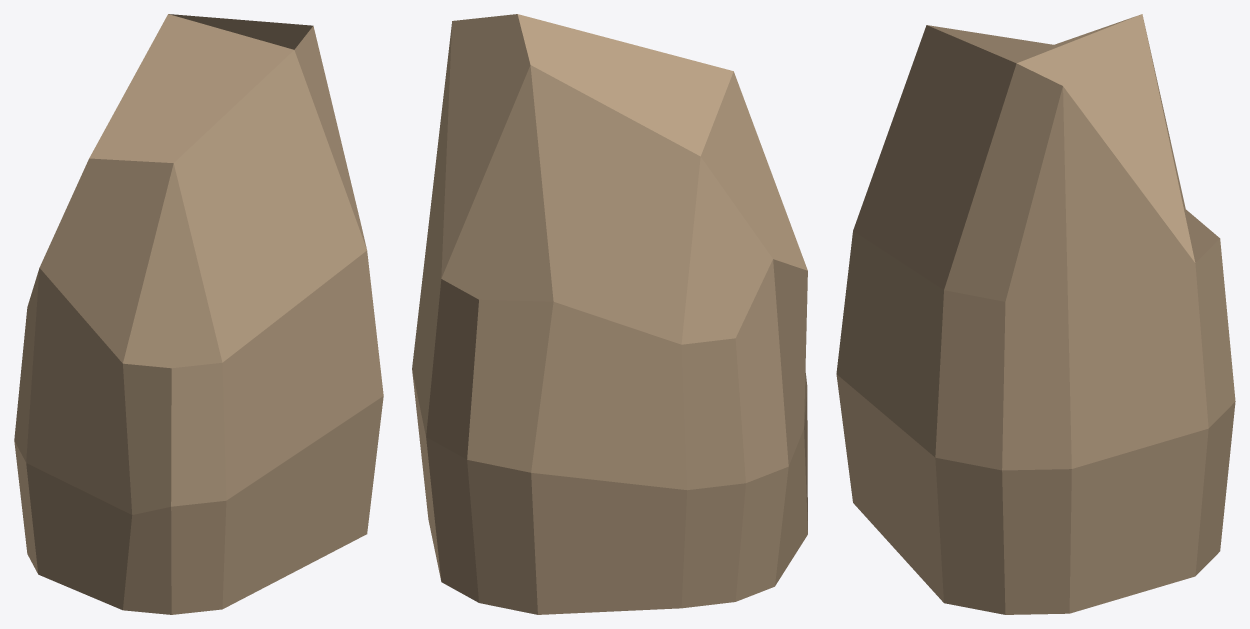
The model's file is rock_23.FBX.
3 views of the same model, side by side, from view 1: azimuth 30°, elevation 25°; view 2: azimuth 150°, elevation 25°; view 3: azimuth 270°, elevation 25° (orthographic). The views are drawn at different scales.
Parts seen in each view (by area): view 1: rock_23; view 2: rock_23; view 3: rock_23.
Part boxes in pixels (bbox=[...]): rock_23: bbox=[14, 14, 383, 614]; rock_23: bbox=[412, 14, 807, 614]; rock_23: bbox=[836, 14, 1235, 614].
Size of the model in its own units: 437 by 596 by 406.
